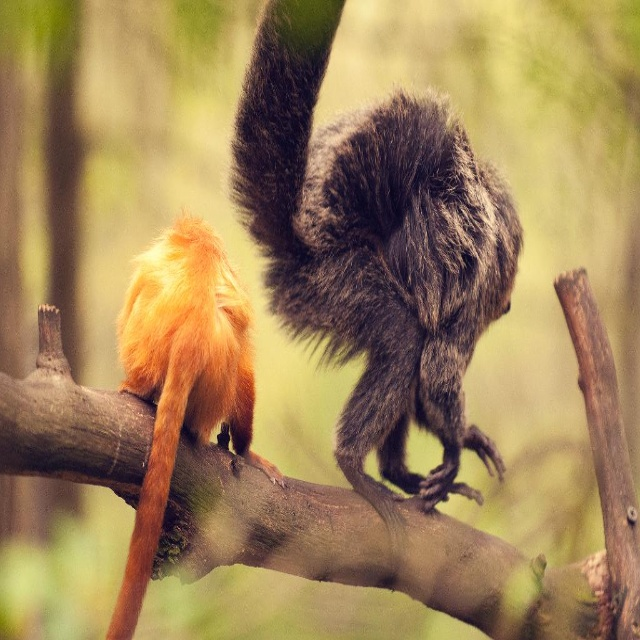Monkey: (96, 212, 267, 620)
